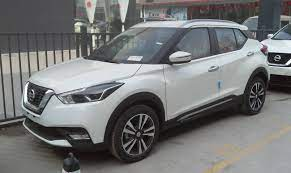Nissan: (21, 19, 265, 145)
